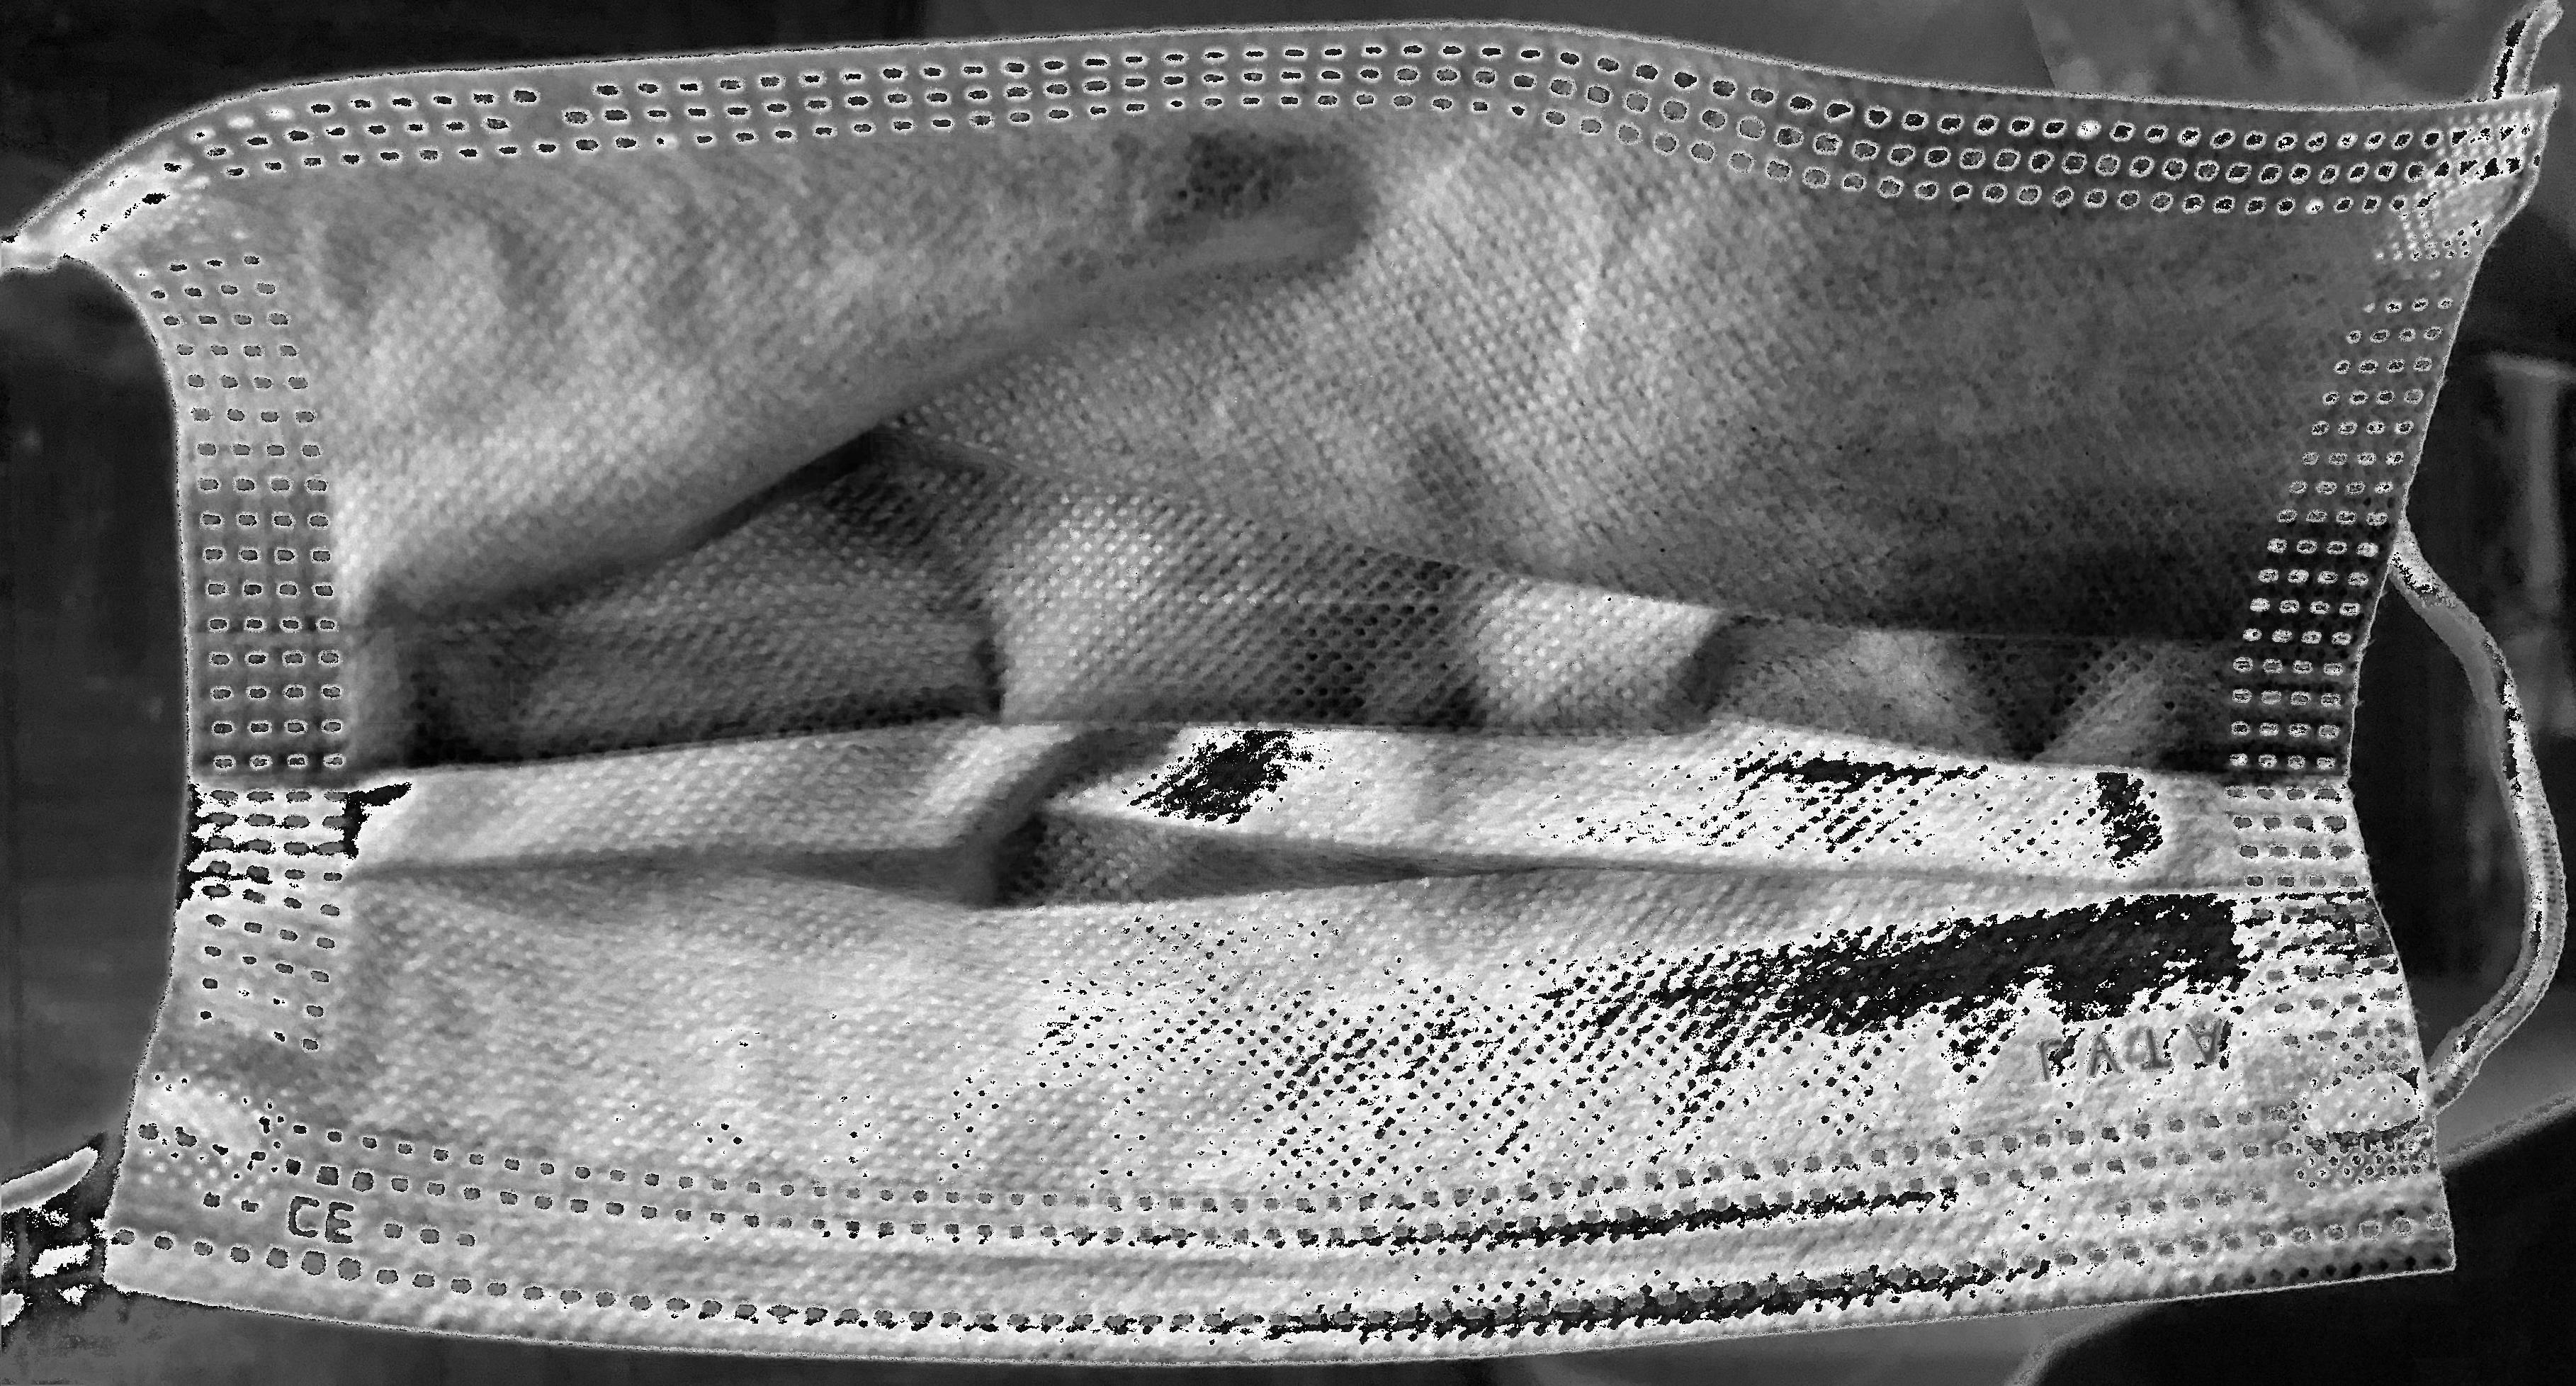High GSM: (348, 225, 2245, 1101)
